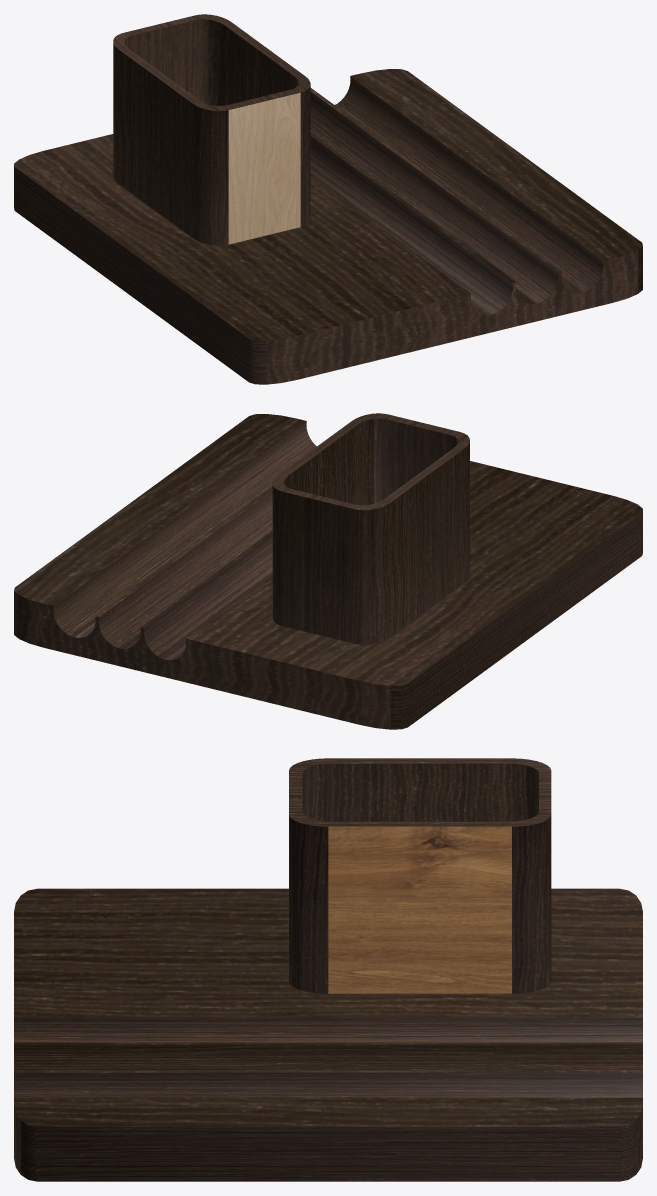
Rendered from stand2.glb.
The picture shows the model from 3 angles, top to bottom: view 1: azimuth 30°, elevation 25°; view 2: azimuth 150°, elevation 25°; view 3: azimuth 270°, elevation 25°; orthographic projection. The views are drawn at different scales.
Visible parts, largest first — view 1: Stand2; view 2: Stand2; view 3: Stand2.
Part boxes in pixels (x1=…): Stand2: x1=14, y1=14, x2=642, y2=384; Stand2: x1=14, y1=413, x2=642, y2=729; Stand2: x1=14, y1=758, x2=642, y2=1181.
Bounding box in the file's own units: 1.9 × 0.8245 × 2.12.
3 materials, 3 textured.
